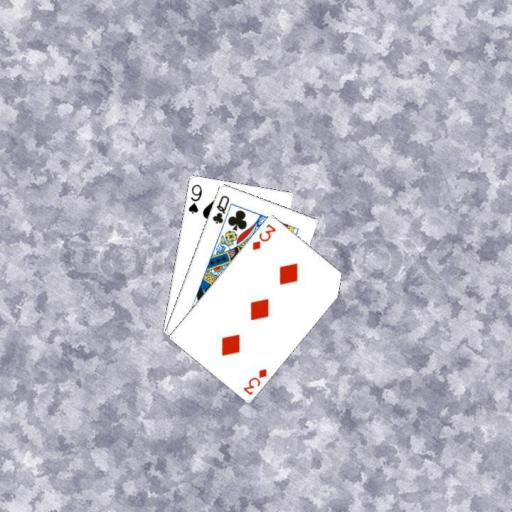3D: (249, 220, 277, 252), (240, 366, 268, 396)
9S: (185, 181, 203, 215)
QC: (209, 192, 230, 225)
